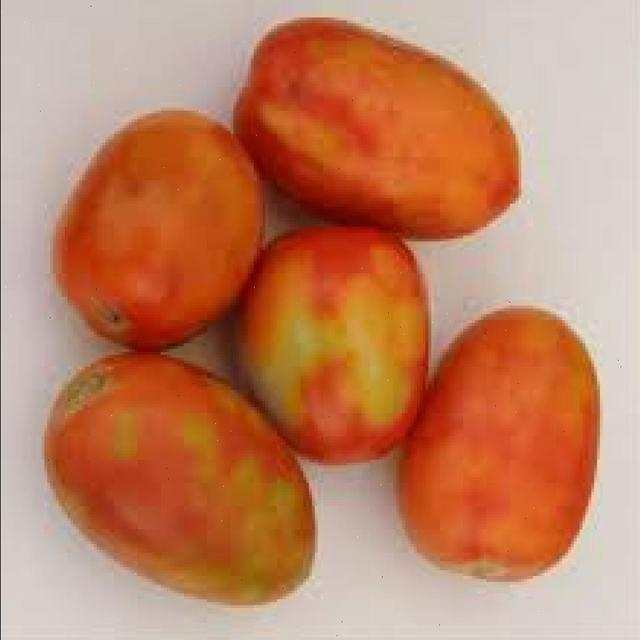Spotted wilt Virus Fruit: (132, 37, 386, 283)
